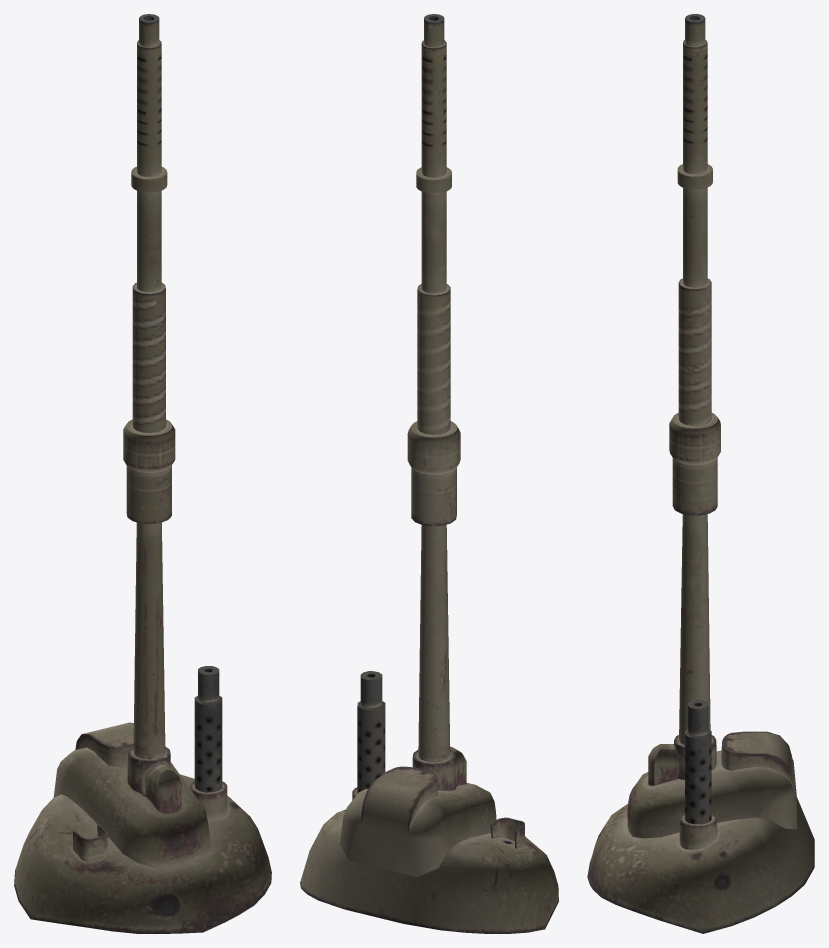
The model's file is Gun_01.glb.
The picture shows the model from 3 angles, left to right: view 1: azimuth 30°, elevation 25°; view 2: azimuth 150°, elevation 25°; view 3: azimuth 270°, elevation 25°; orthographic projection. The views are drawn at different scales.
Parts seen in each view (by area): view 1: set_0_group_0; view 2: set_0_group_0; view 3: set_0_group_0.
Part boxes in pixels (x1,y1,x2,y2): set_0_group_0: [14, 14, 271, 933]; set_0_group_0: [300, 14, 558, 933]; set_0_group_0: [587, 14, 814, 933].
Bounding box in the file's own units: 0.5284 × 1.95 × 0.4645.
Materials: 1 (1 with a texture image).
